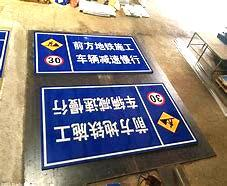sign: (43, 85, 193, 149), (36, 31, 151, 74)
